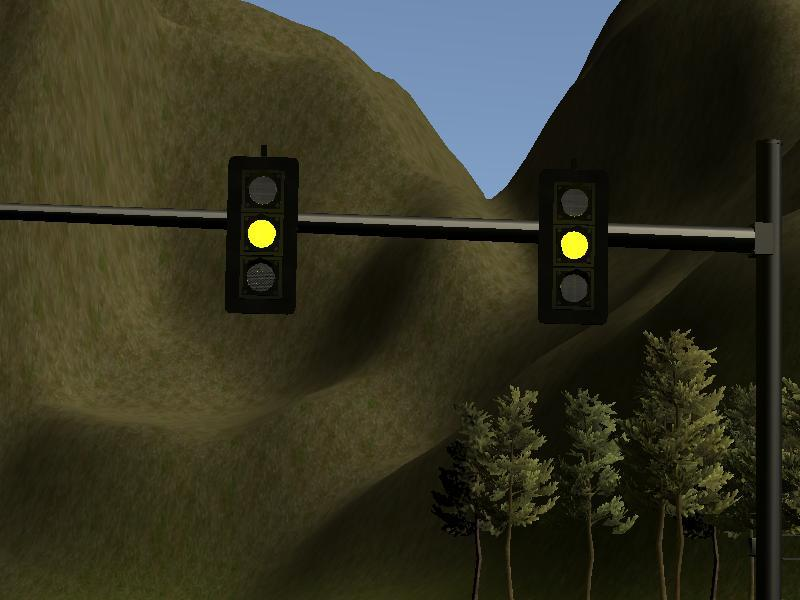Yellow: (227, 155, 297, 315), (542, 171, 607, 324)
